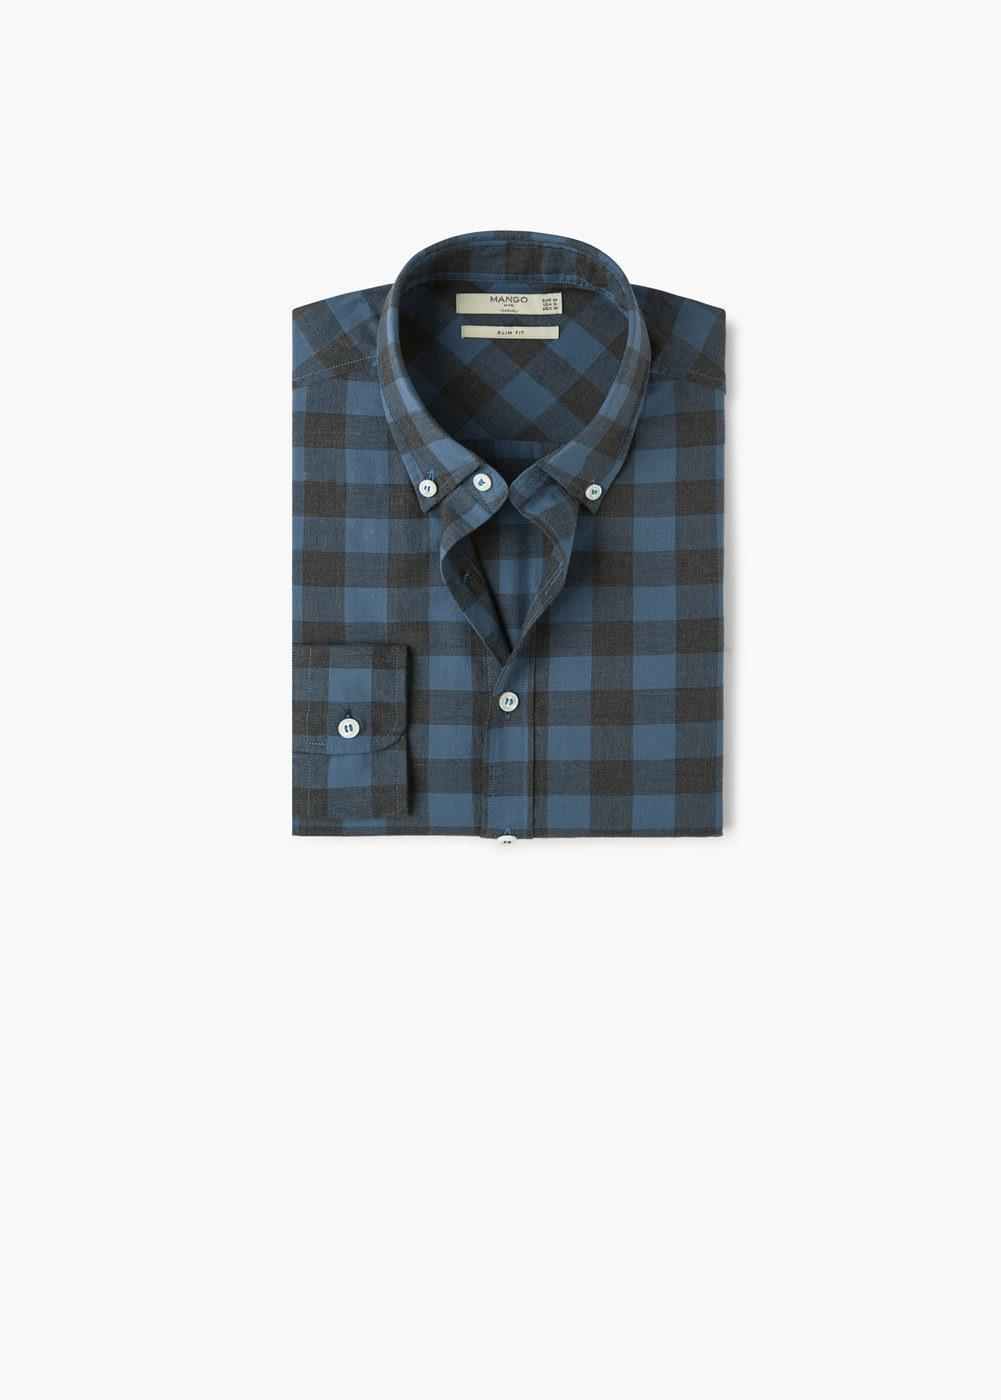teeshirt: (263, 228, 742, 855)
